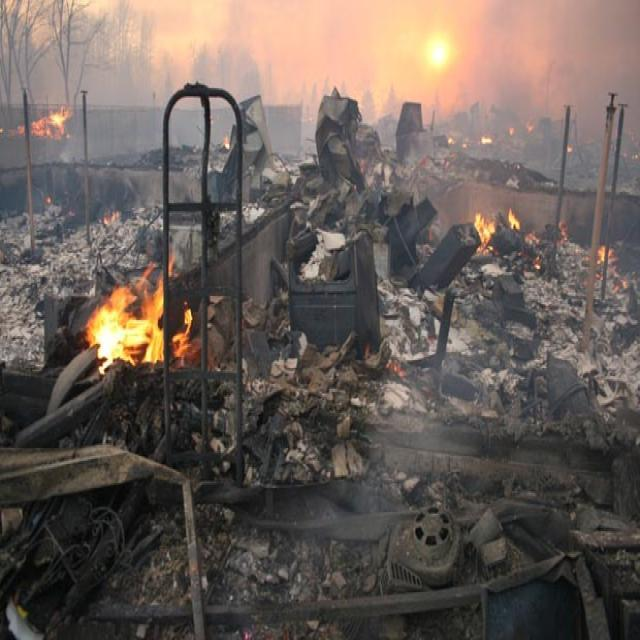Fire: (85, 270, 204, 378), (8, 109, 72, 142), (470, 216, 492, 250), (594, 245, 616, 269), (506, 211, 520, 229)
Smoke: (8, 0, 640, 91)
